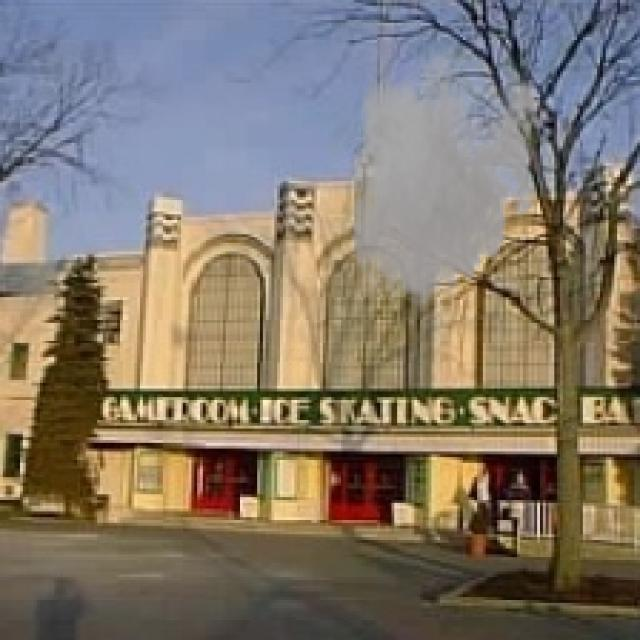smoke: (343, 34, 546, 317)
